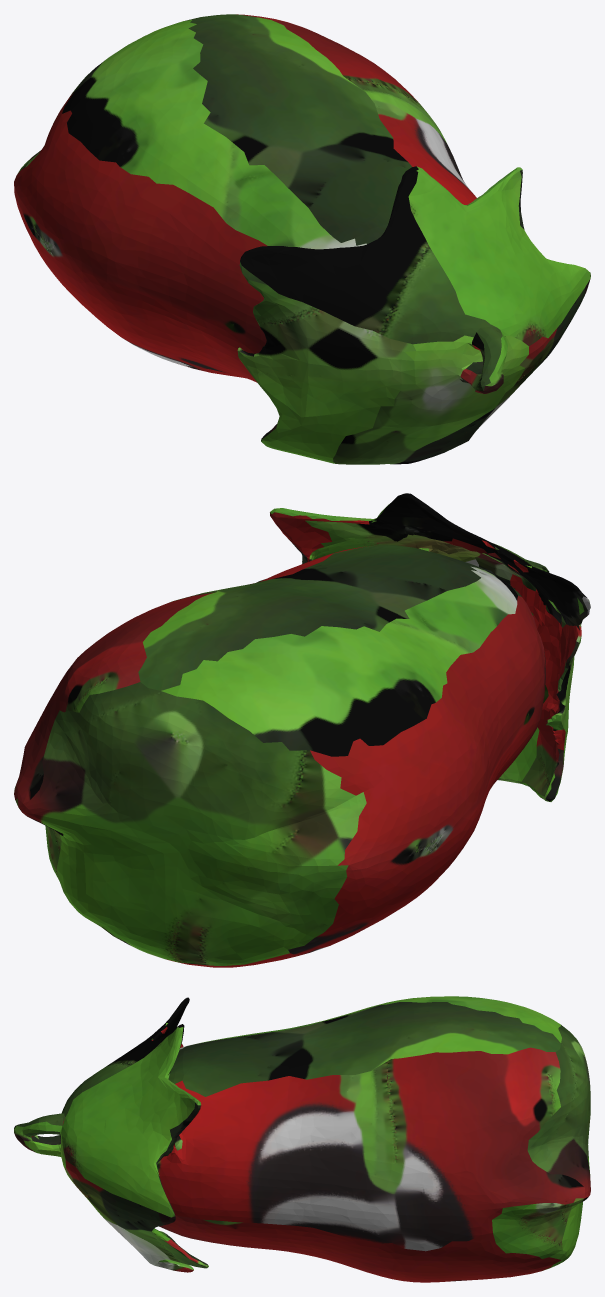
Rendered from sample.obj.
3 views of the same model, one above another, from view 1: azimuth 30°, elevation 25°; view 2: azimuth 150°, elevation 25°; view 3: azimuth 270°, elevation 25° (orthographic). The views are drawn at different scales.
Visible parts, largest first — view 1: sample.obj; view 2: sample.obj; view 3: sample.obj.
Part boxes in pixels (x1,y1,x2,y2): sample.obj: (14,14,590,464); sample.obj: (14,493,590,967); sample.obj: (14,996,590,1282).
Size of the model in its own units: 0.065 by 0.05 by 0.105.
